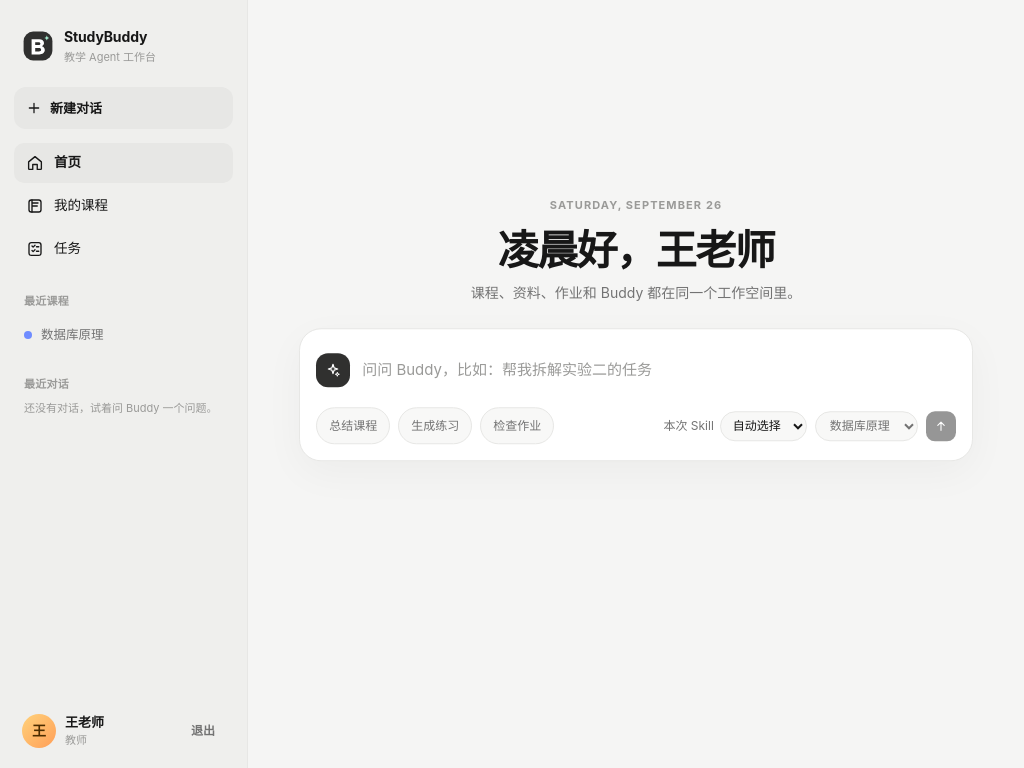
首页发送第一条消息 › 创建 Run 失败时保留输入内容并显示错误
The image size is (1024, 768).
Type "总结这门课" into the field named "向 Buddy 提问" at (659, 370), box [362,345,956,395]
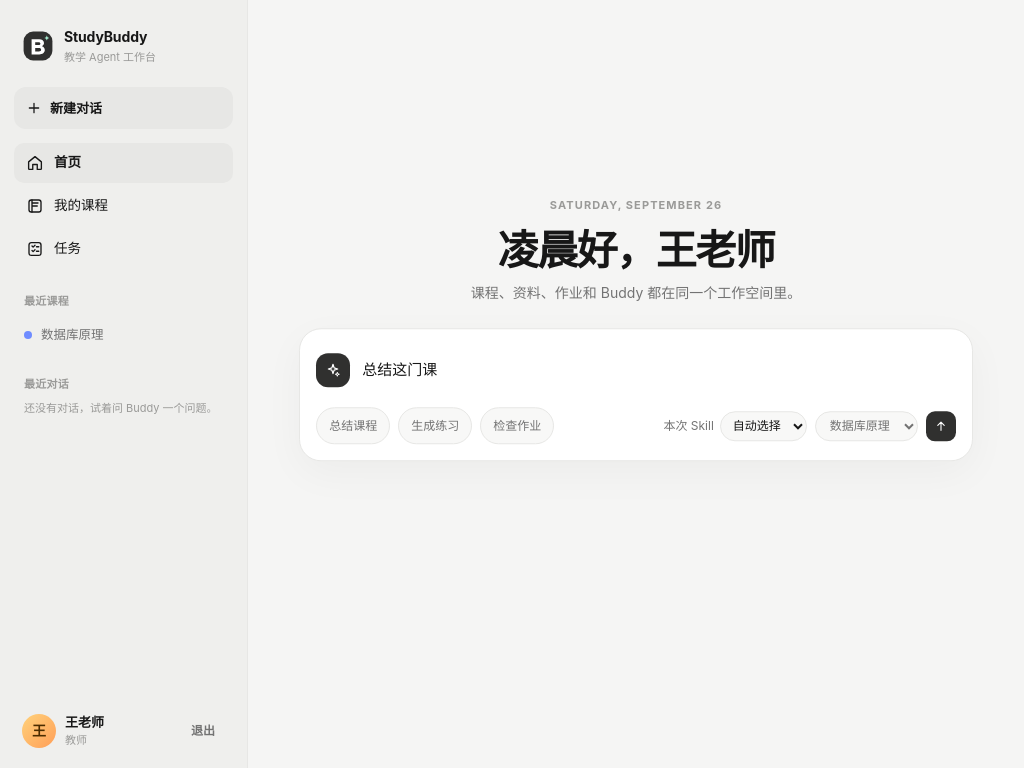
Click the button named "发送" at (941, 426), box [926,411,956,441]
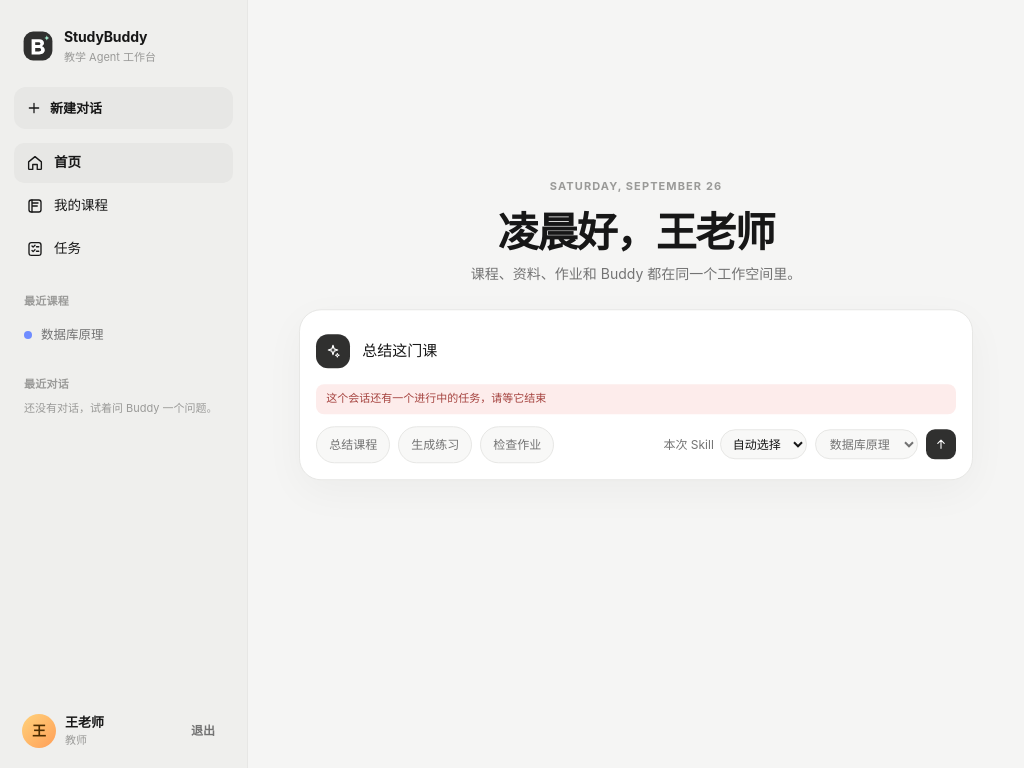
expect the text "这个会话还有一个进行中的任务，请等它结束" is shown: met, box [316,384,956,414]
